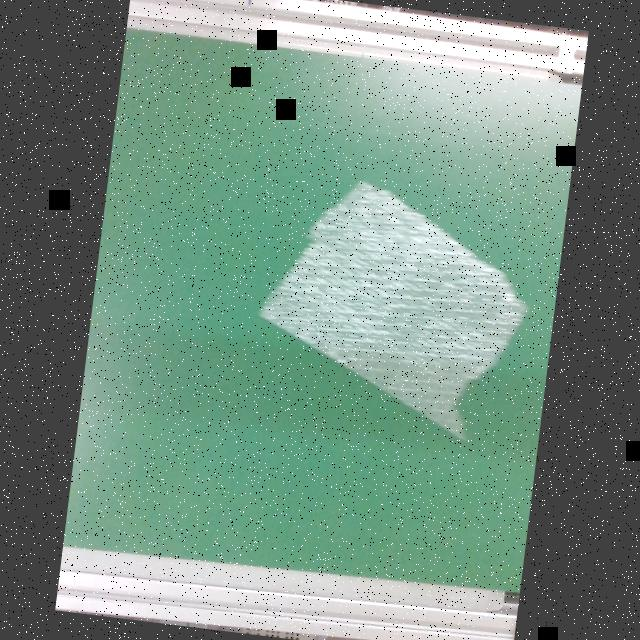scrap_plastic: (241, 169, 545, 447)
